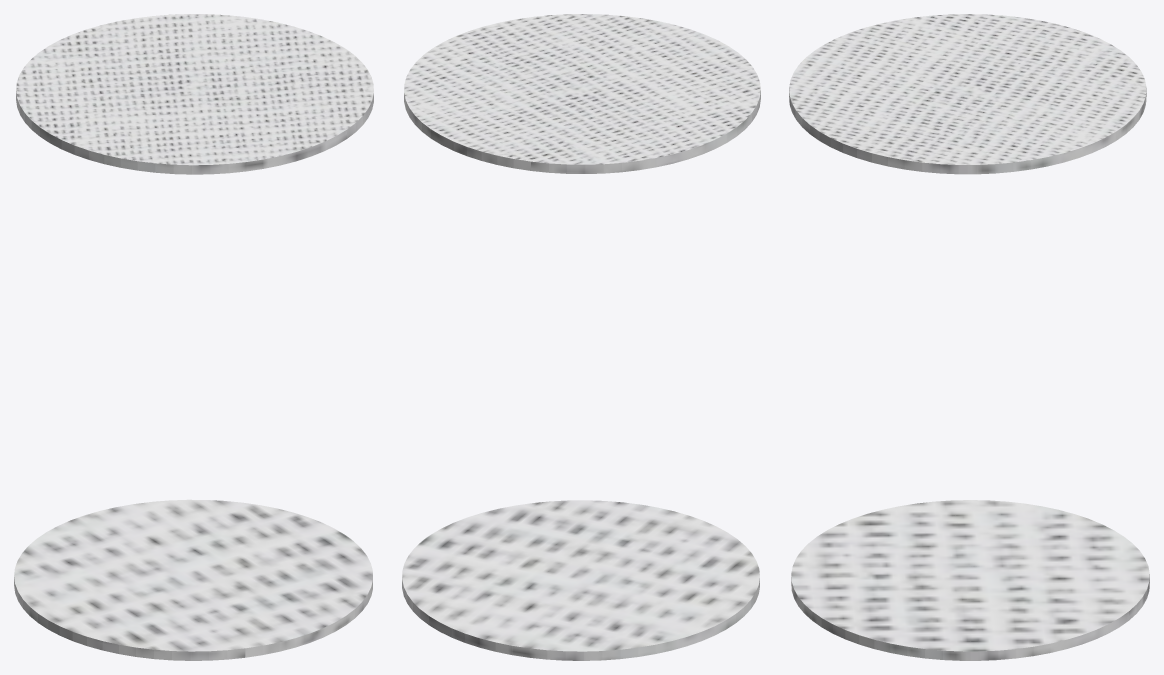
Rendered from topandBottomCheeseCloth.glb.
The picture shows the model from 3 angles, left to right: view 1: azimuth 30°, elevation 25°; view 2: azimuth 150°, elevation 25°; view 3: azimuth 270°, elevation 25°; orthographic projection.
Visible parts, largest first — view 1: Cylinder.003; view 2: Cylinder.003; view 3: Cylinder.003.
Boxes of the visible parts, left/top/right/bottom form: Cylinder.003: left=14, top=14, right=373, bottom=660; Cylinder.003: left=402, top=14, right=760, bottom=660; Cylinder.003: left=789, top=14, right=1149, bottom=660.
Size of the model in its own units: 0.9185 by 1.4 by 0.9237.
Materials: 1 (1 with a texture image).
